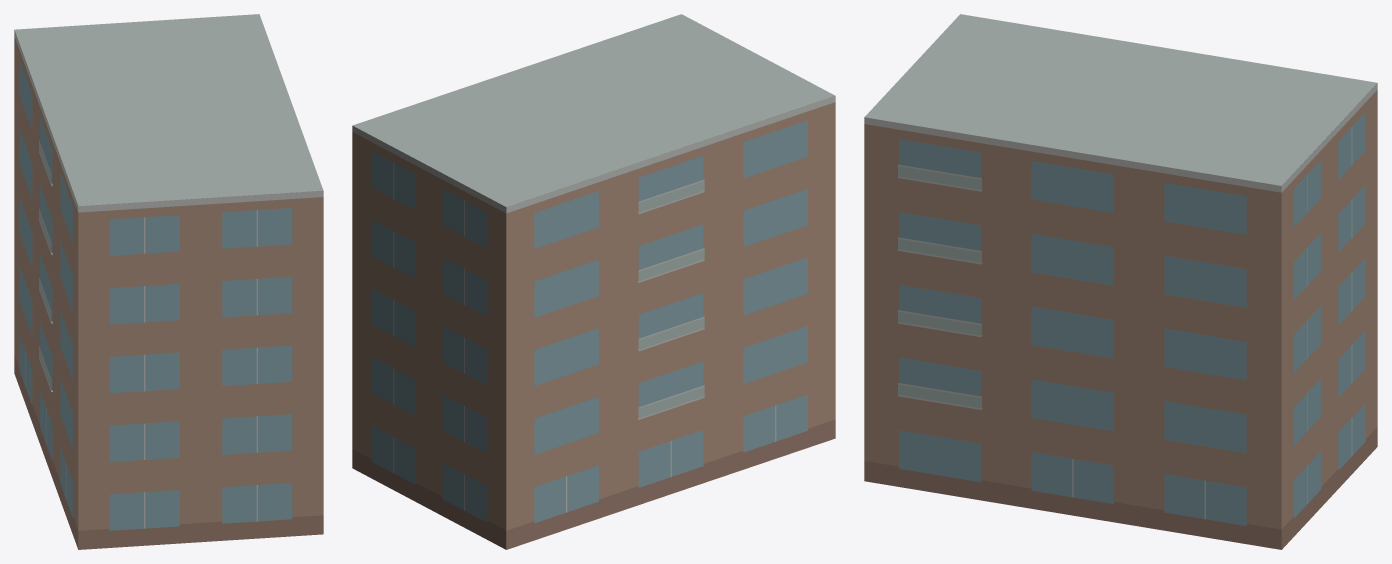
Rendered from survey-upis-32879671.glb.
3 renders of one model, left to right at view 1: azimuth 30°, elevation 25°; view 2: azimuth 150°, elevation 25°; view 3: azimuth 270°, elevation 25°, orthographic. The views are drawn at different scales.
Visible parts, largest first — view 1: survey-upis-32879671.tmp; view 2: survey-upis-32879671.tmp; view 3: survey-upis-32879671.tmp.
Boxes of the visible parts, x1,y1,x2,y2 form: survey-upis-32879671.tmp: (14, 14, 323, 549); survey-upis-32879671.tmp: (352, 14, 835, 549); survey-upis-32879671.tmp: (864, 14, 1377, 549).
Bounding box in the file's own units: 13.49 × 13.3 × 17.01.
